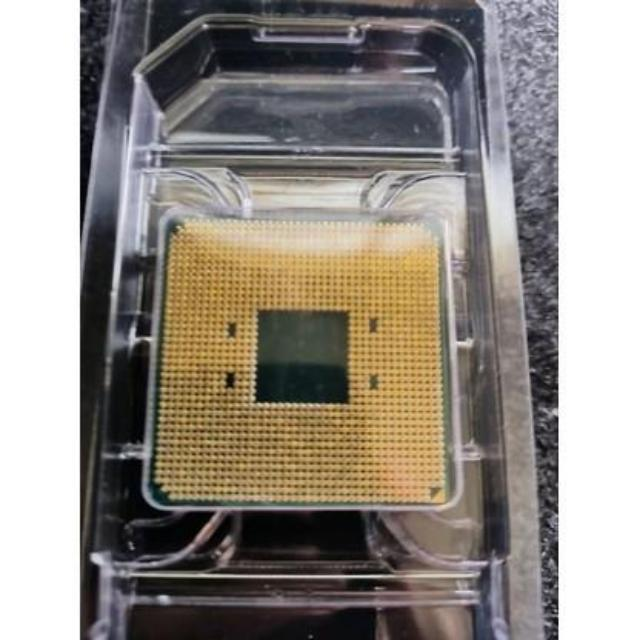CPU: (158, 218, 446, 506)
